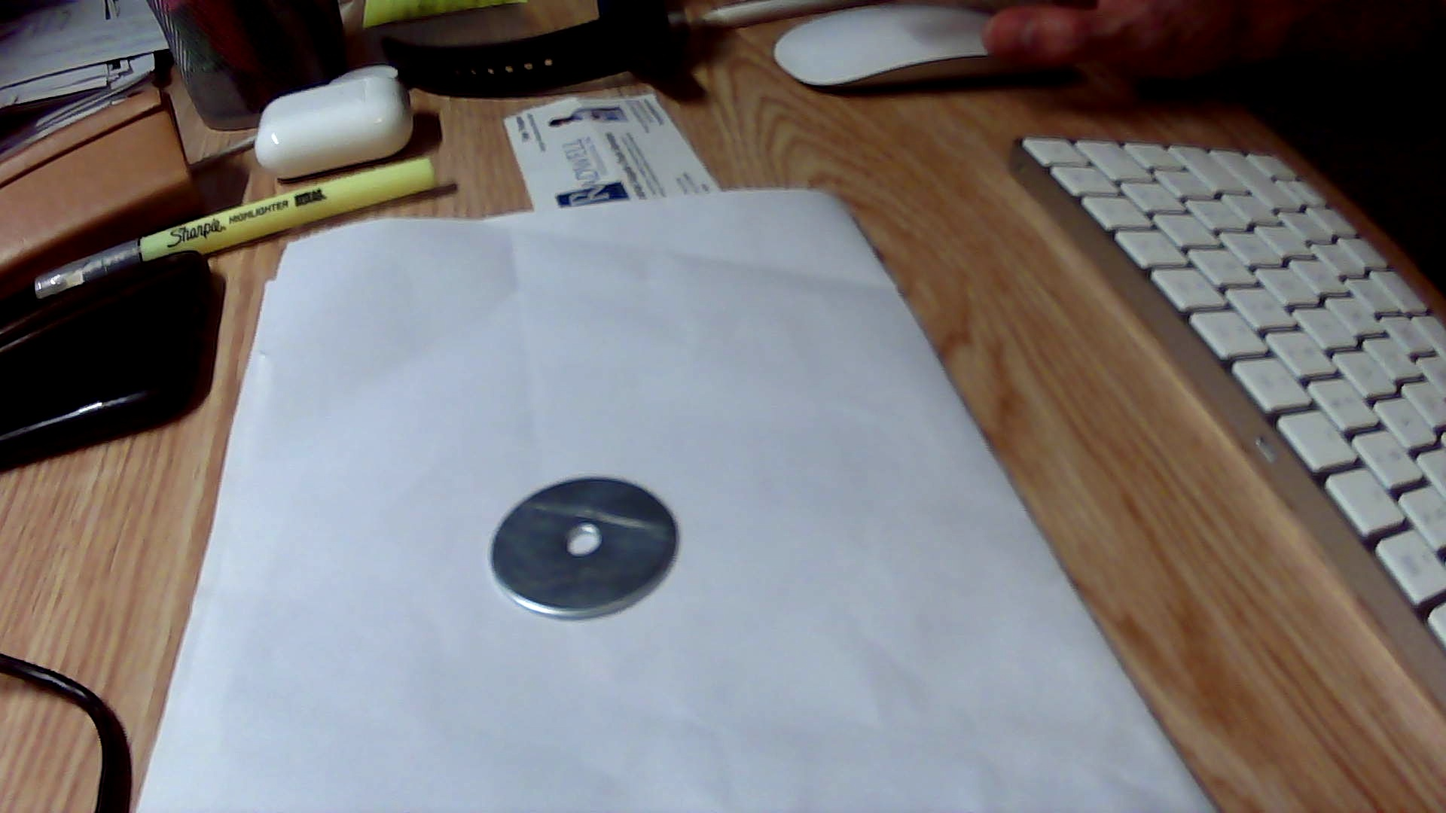DetectiveWashers: (520, 493, 673, 545)
